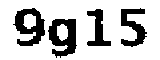1: (82, 8, 112, 49)
5: (117, 4, 151, 52)
9: (11, 6, 47, 49)
g: (45, 13, 78, 60)
